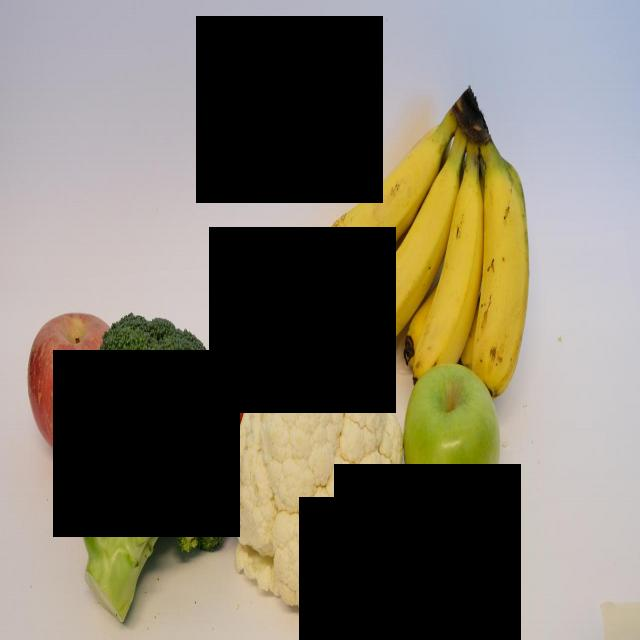apple: (404, 356, 504, 536), (26, 305, 112, 469)
banana: (344, 164, 463, 355), (227, 251, 354, 389), (321, 124, 448, 258), (415, 188, 488, 392), (472, 138, 528, 392)
broccoli: (66, 320, 231, 628)
cauliflower: (229, 368, 403, 624)
tomato: (217, 328, 301, 426)
